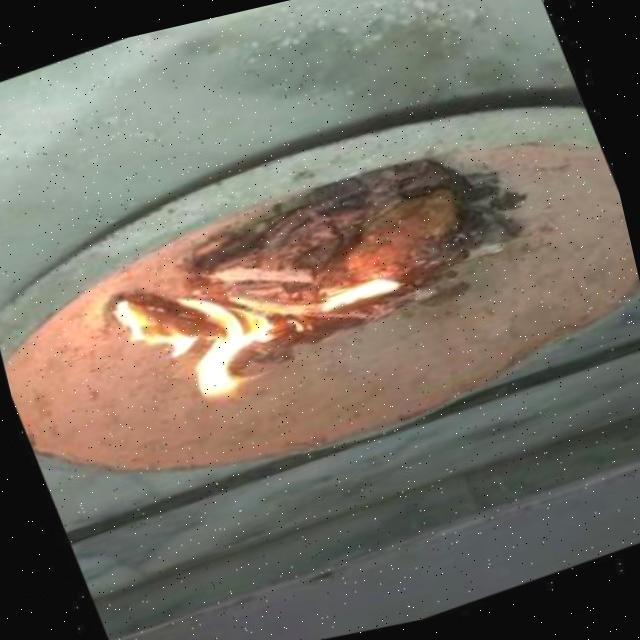fire: (84, 191, 435, 437)
